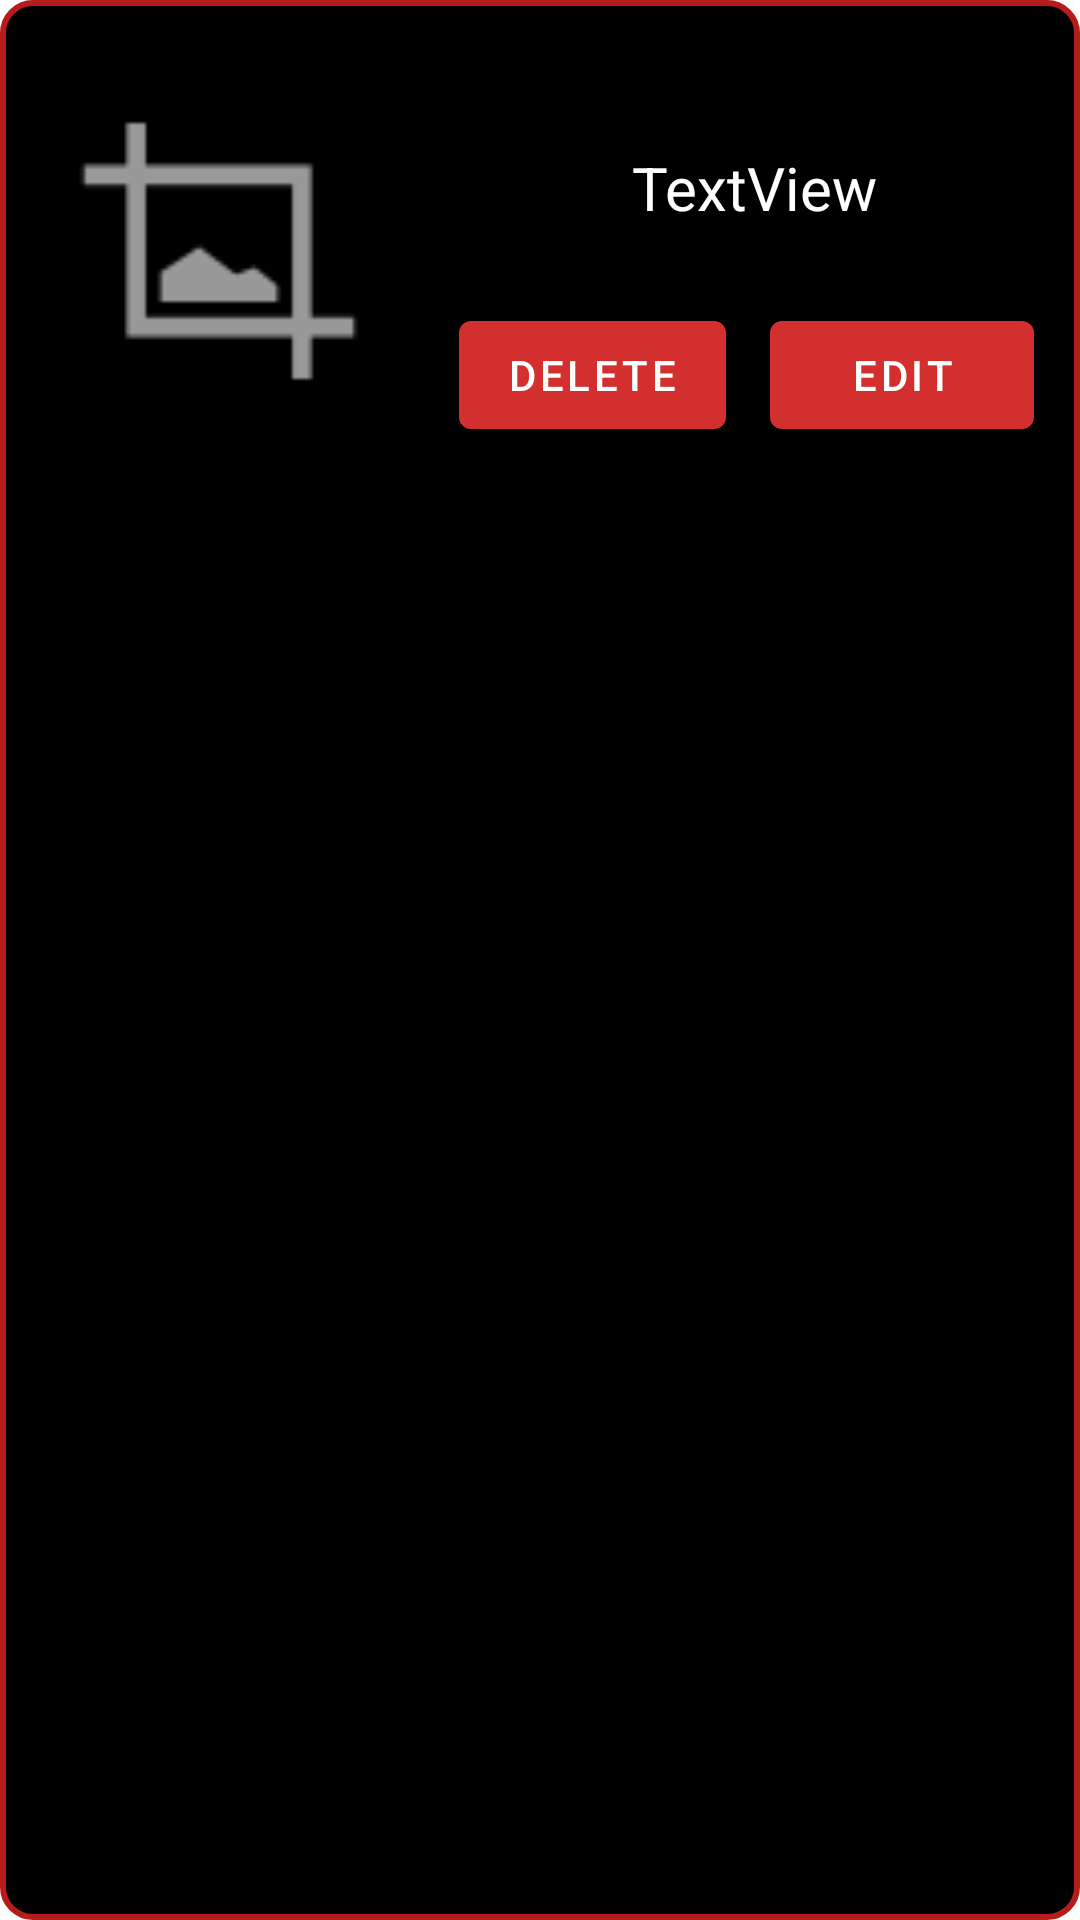

Screen size 1080 x 1920. Icon name, then its center in pixels as [x,y]:
crop: [219,251]
